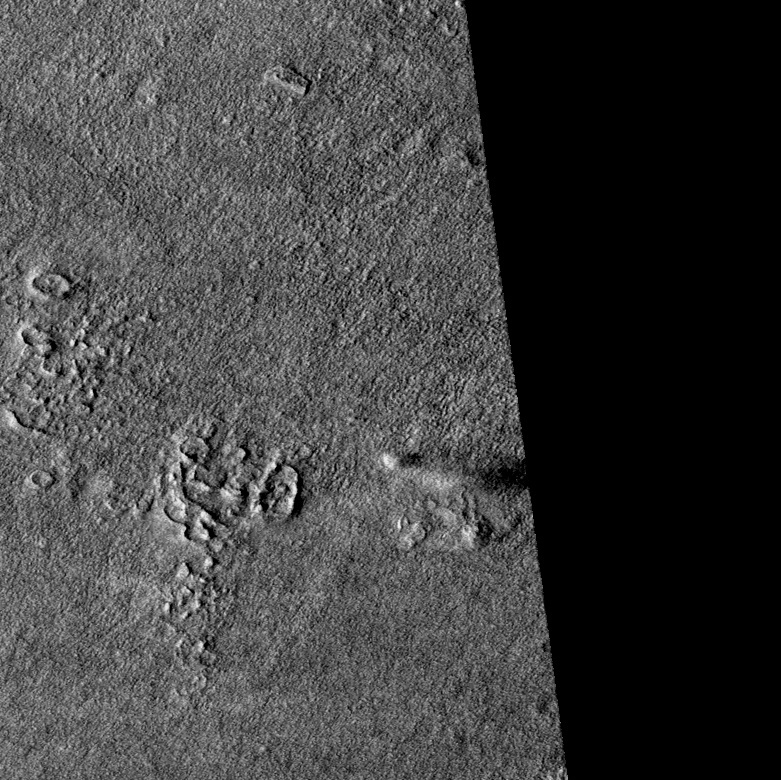dust_devil: (381, 449, 528, 499)
